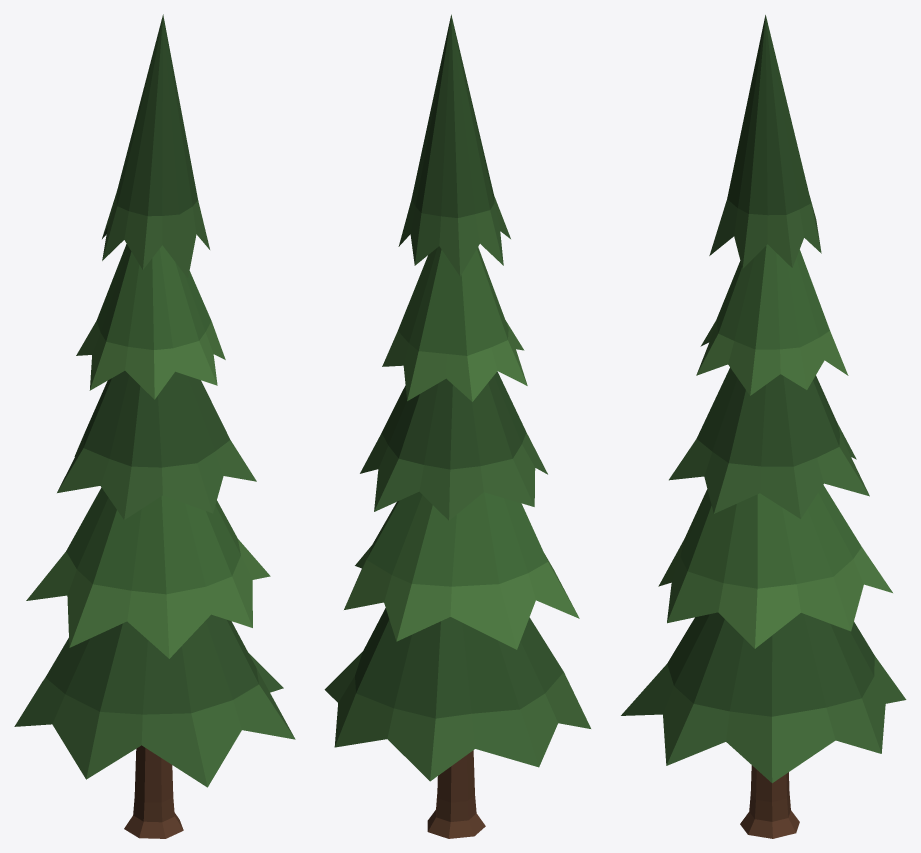
The model's file is World_PineTall.fbx.
3 views of the same model, side by side, from view 1: azimuth 30°, elevation 25°; view 2: azimuth 150°, elevation 25°; view 3: azimuth 270°, elevation 25° (orthographic).
Visible parts, largest first — view 1: FoliageA, TipsA, FoliageB, TipsB, Trunk; view 2: FoliageA, TipsA, FoliageB, TipsB, Trunk; view 3: FoliageA, TipsA, FoliageB, TipsB, Trunk.
Boxes of the visible parts, x1,y1,x2,y2 form: FoliageA: (45,14,258,714); TipsA: (14,191,295,787); FoliageB: (66,244,240,594); TipsB: (26,321,270,658); Trunk: (124,745,183,838); FoliageA: (355,14,563,718); TipsA: (324,195,590,781); FoliageB: (366,246,547,586); TipsB: (344,320,579,649); Trunk: (427,750,485,838); FoliageA: (667,15,874,716); TipsA: (621,197,906,783); FoliageB: (680,244,861,588); TipsB: (658,320,892,648); Trunk: (740,765,799,838).
Bounding box in the file's own units: 875 × 2800 × 890.
